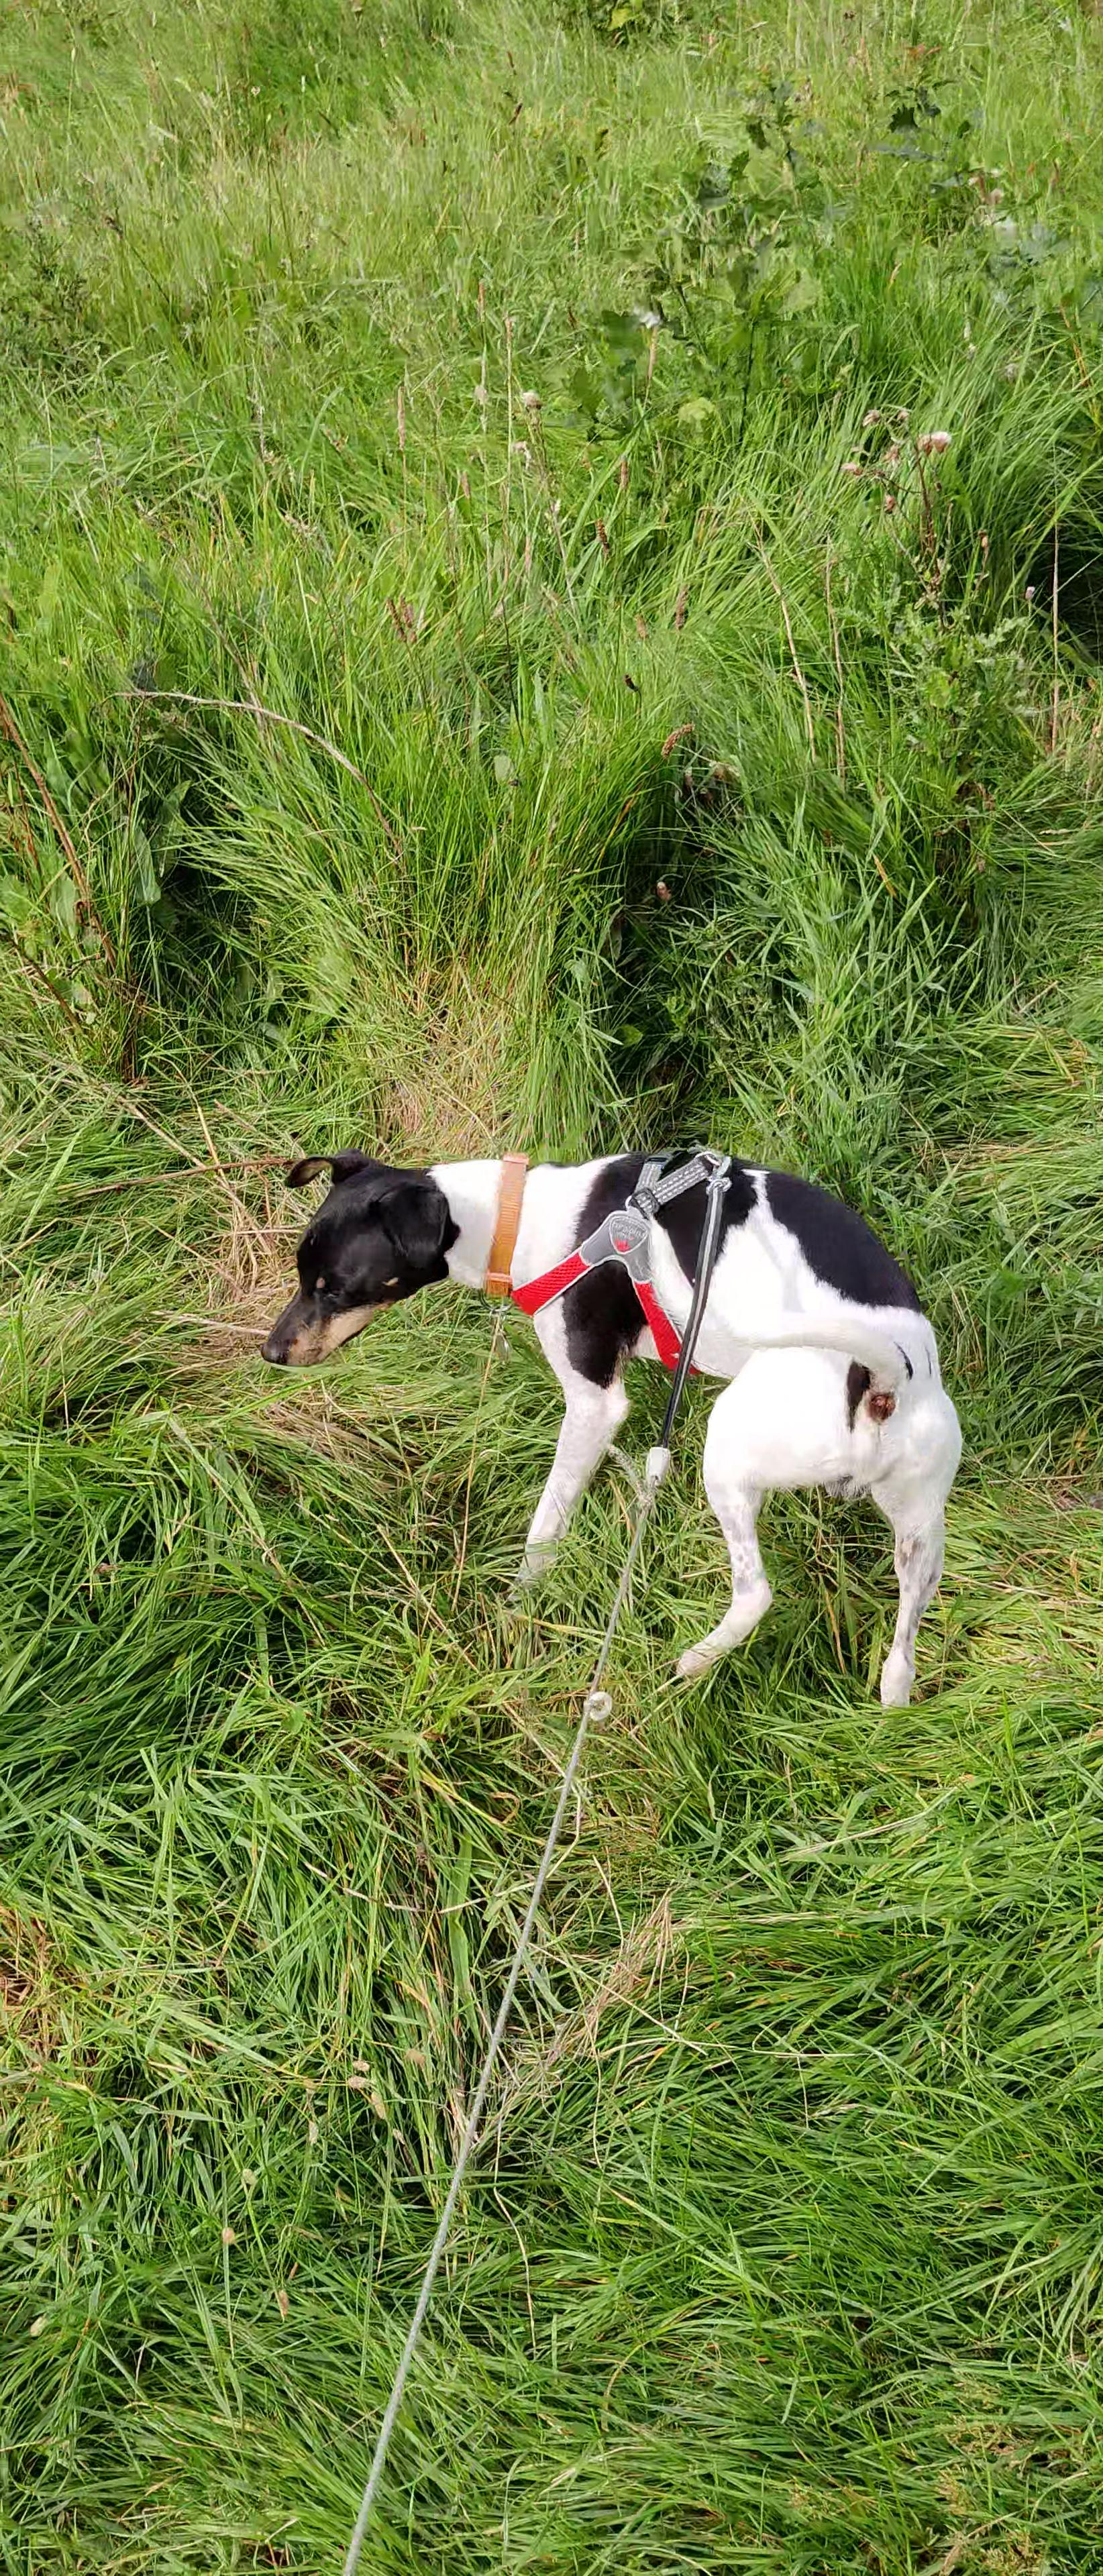Dog: (256, 1122, 970, 1710)
